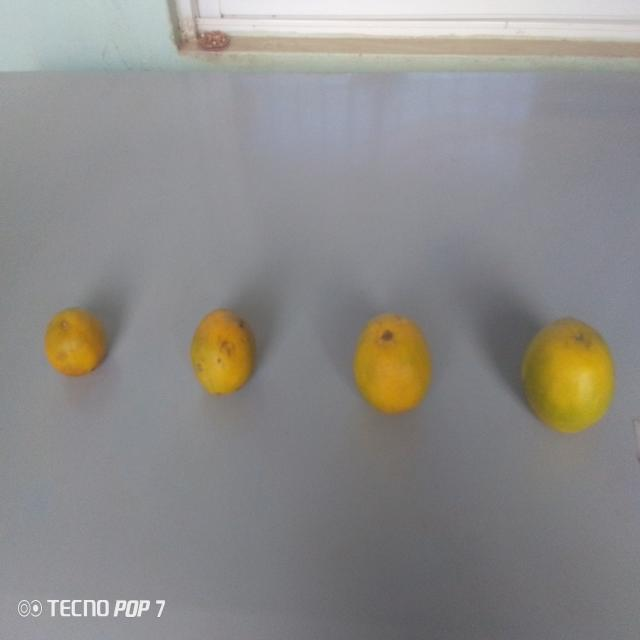Ripe orange: (341, 308, 438, 434), (518, 314, 616, 436), (185, 300, 259, 410), (38, 297, 110, 391)
